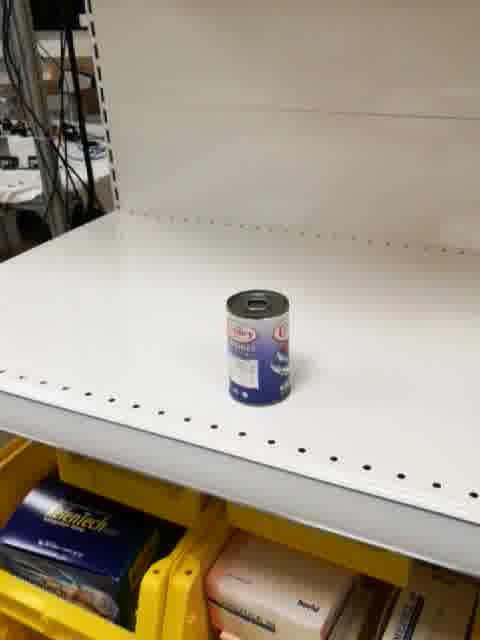sardine: (225, 287, 294, 408)
